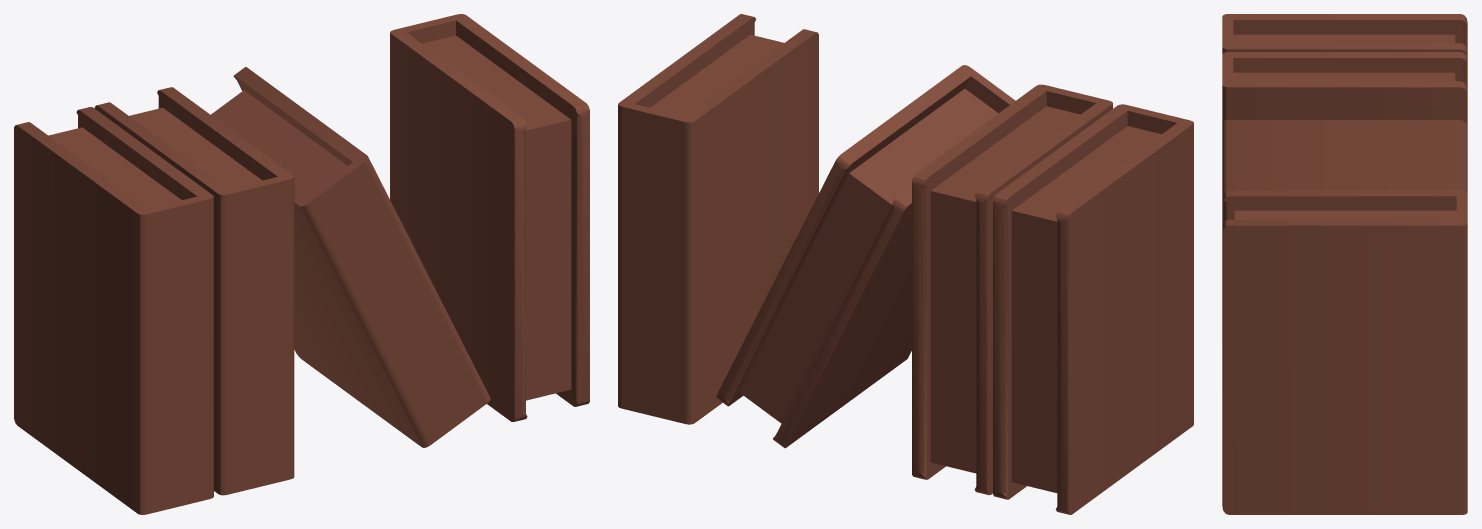
File: books.glb
The picture shows the model from 3 angles, left to right: view 1: azimuth 30°, elevation 25°; view 2: azimuth 150°, elevation 25°; view 3: azimuth 270°, elevation 25°; orthographic projection. The views are drawn at different scales.
Visible parts, largest first — view 1: book, book.003, book.002, book.001; view 2: book, book.003, book.002, book.001; view 3: book.003, book.002, book.001, book.
Boxes of the visible parts, x1=… form: book: x1=14, y1=107, x2=213, y2=514; book.003: x1=390, y1=14, x2=589, y2=421; book.002: x1=211, y1=67, x2=490, y2=447; book.001: x1=94, y1=87, x2=294, y2=495; book: x1=993, y1=104, x2=1193, y2=514; book.003: x1=618, y1=14, x2=818, y2=424; book.002: x1=716, y1=65, x2=1015, y2=448; book.001: x1=912, y1=84, x2=1112, y2=495; book.003: x1=1222, y1=190, x2=1467, y2=514; book.002: x1=1222, y1=120, x2=1467, y2=198; book.001: x1=1222, y1=52, x2=1467, y2=127; book: x1=1222, y1=14, x2=1467, y2=60.
Bounding box in the file's own units: 0.4627 × 0.2999 × 0.2268.
